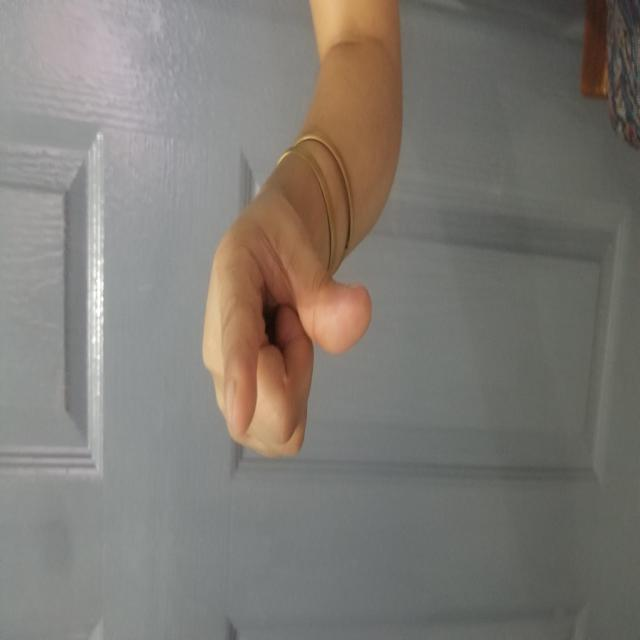Z: (180, 201, 380, 473)
